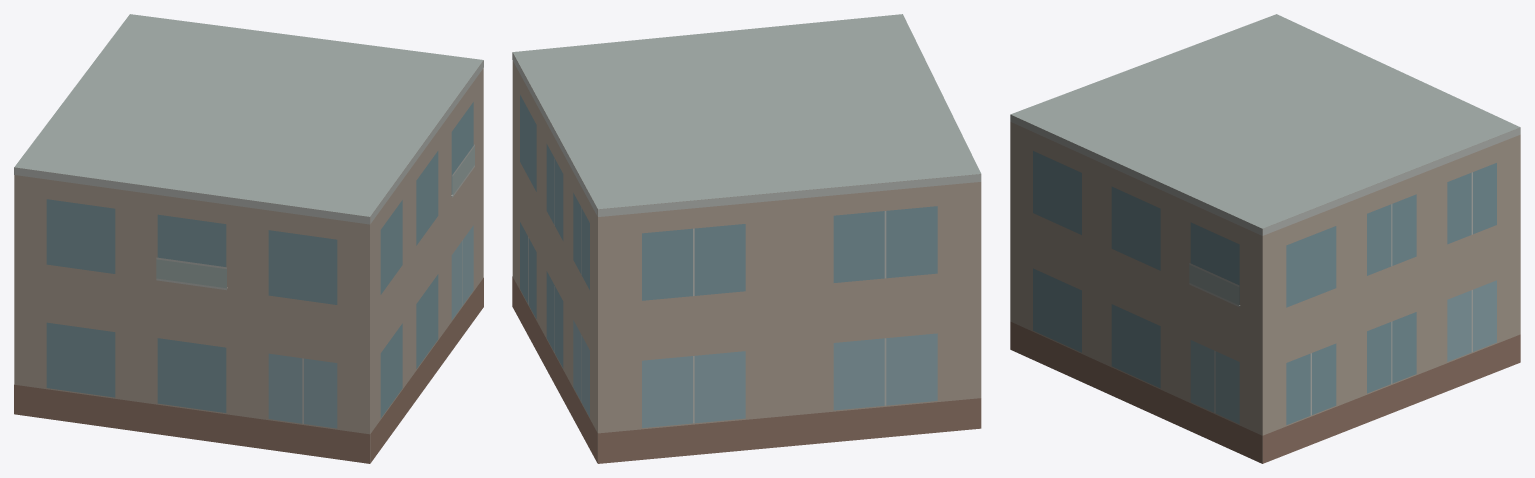
File: survey-upis-32840170.glb
The picture shows the model from 3 angles, left to right: view 1: azimuth 30°, elevation 25°; view 2: azimuth 150°, elevation 25°; view 3: azimuth 270°, elevation 25°; orthographic projection. The views are drawn at different scales.
Parts seen in each view (by area): view 1: survey-upis-32840170.tmp; view 2: survey-upis-32840170.tmp; view 3: survey-upis-32840170.tmp.
Boxes of the visible parts, left/top/right/bottom form: survey-upis-32840170.tmp: left=14, top=14, right=483, bottom=463; survey-upis-32840170.tmp: left=512, top=14, right=981, bottom=463; survey-upis-32840170.tmp: left=1010, top=14, right=1520, bottom=463.
Size of the model in its own units: 15.48 by 7.9 by 15.55.
